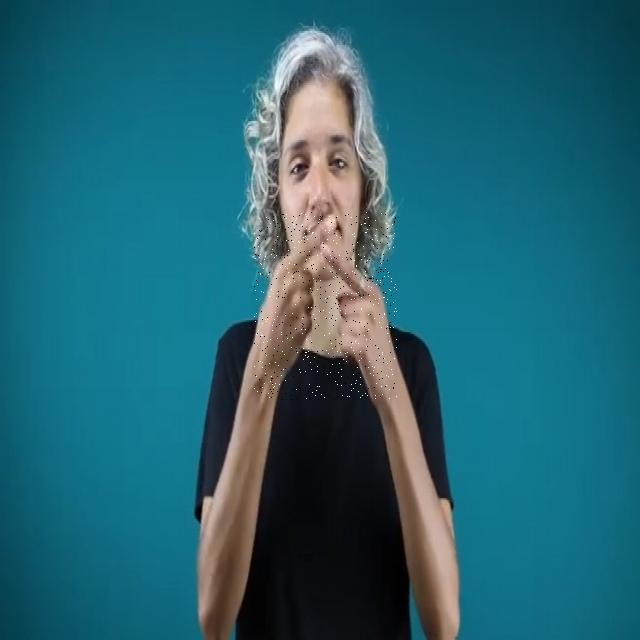allergy: (254, 212, 397, 400)
